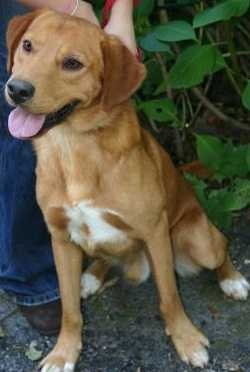Dog: (4, 0, 187, 339)
